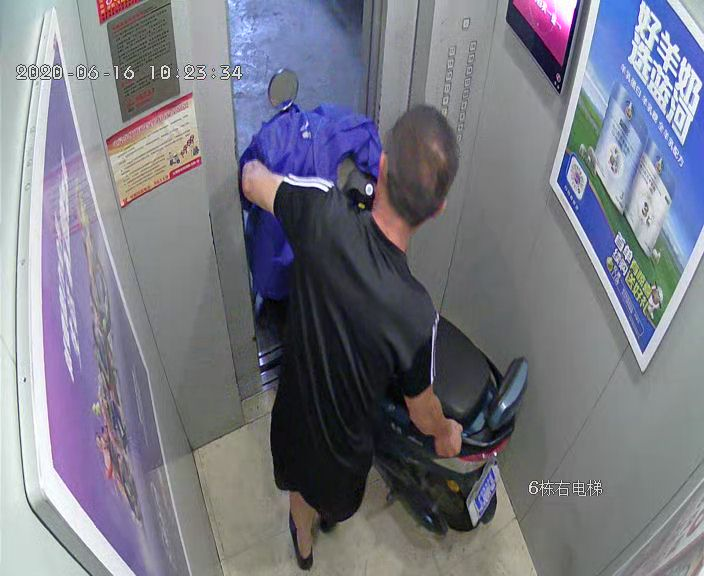Electric-bicycle: (266, 67, 530, 529)
